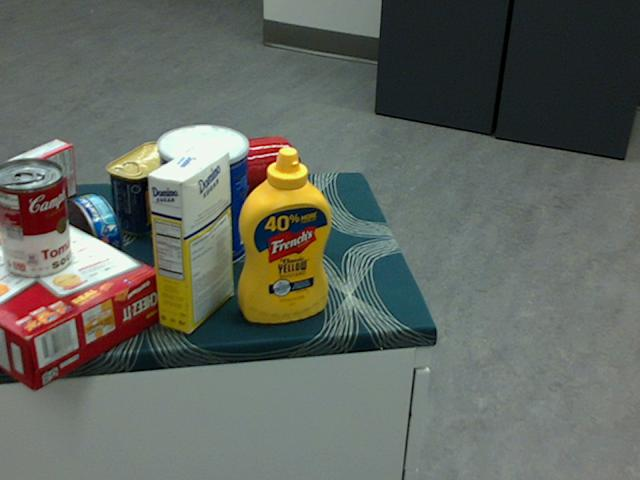cracker_box: (0, 202, 161, 390)
gelatin_box: (6, 139, 76, 218)
large_marker: (285, 153, 300, 246)
master_chef_can: (154, 123, 246, 270)
mug: (213, 134, 296, 207)
mustard_bottle: (237, 145, 332, 322)
potted_meat_can: (104, 140, 180, 236)
sugar_box: (146, 144, 234, 332)
tomato_soup_can: (0, 158, 71, 278)
tuna_fish_can: (57, 193, 120, 272)
